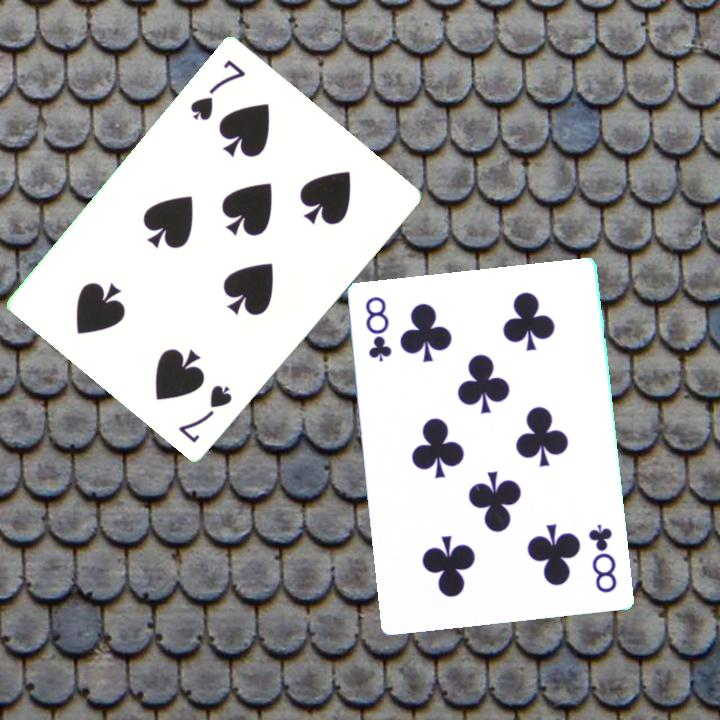7s: (186, 55, 249, 123), (175, 380, 235, 446)
8c: (585, 521, 621, 596), (362, 293, 395, 365)
